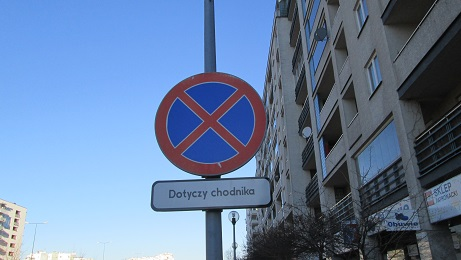no_stopping_sign: (154, 71, 269, 175)
